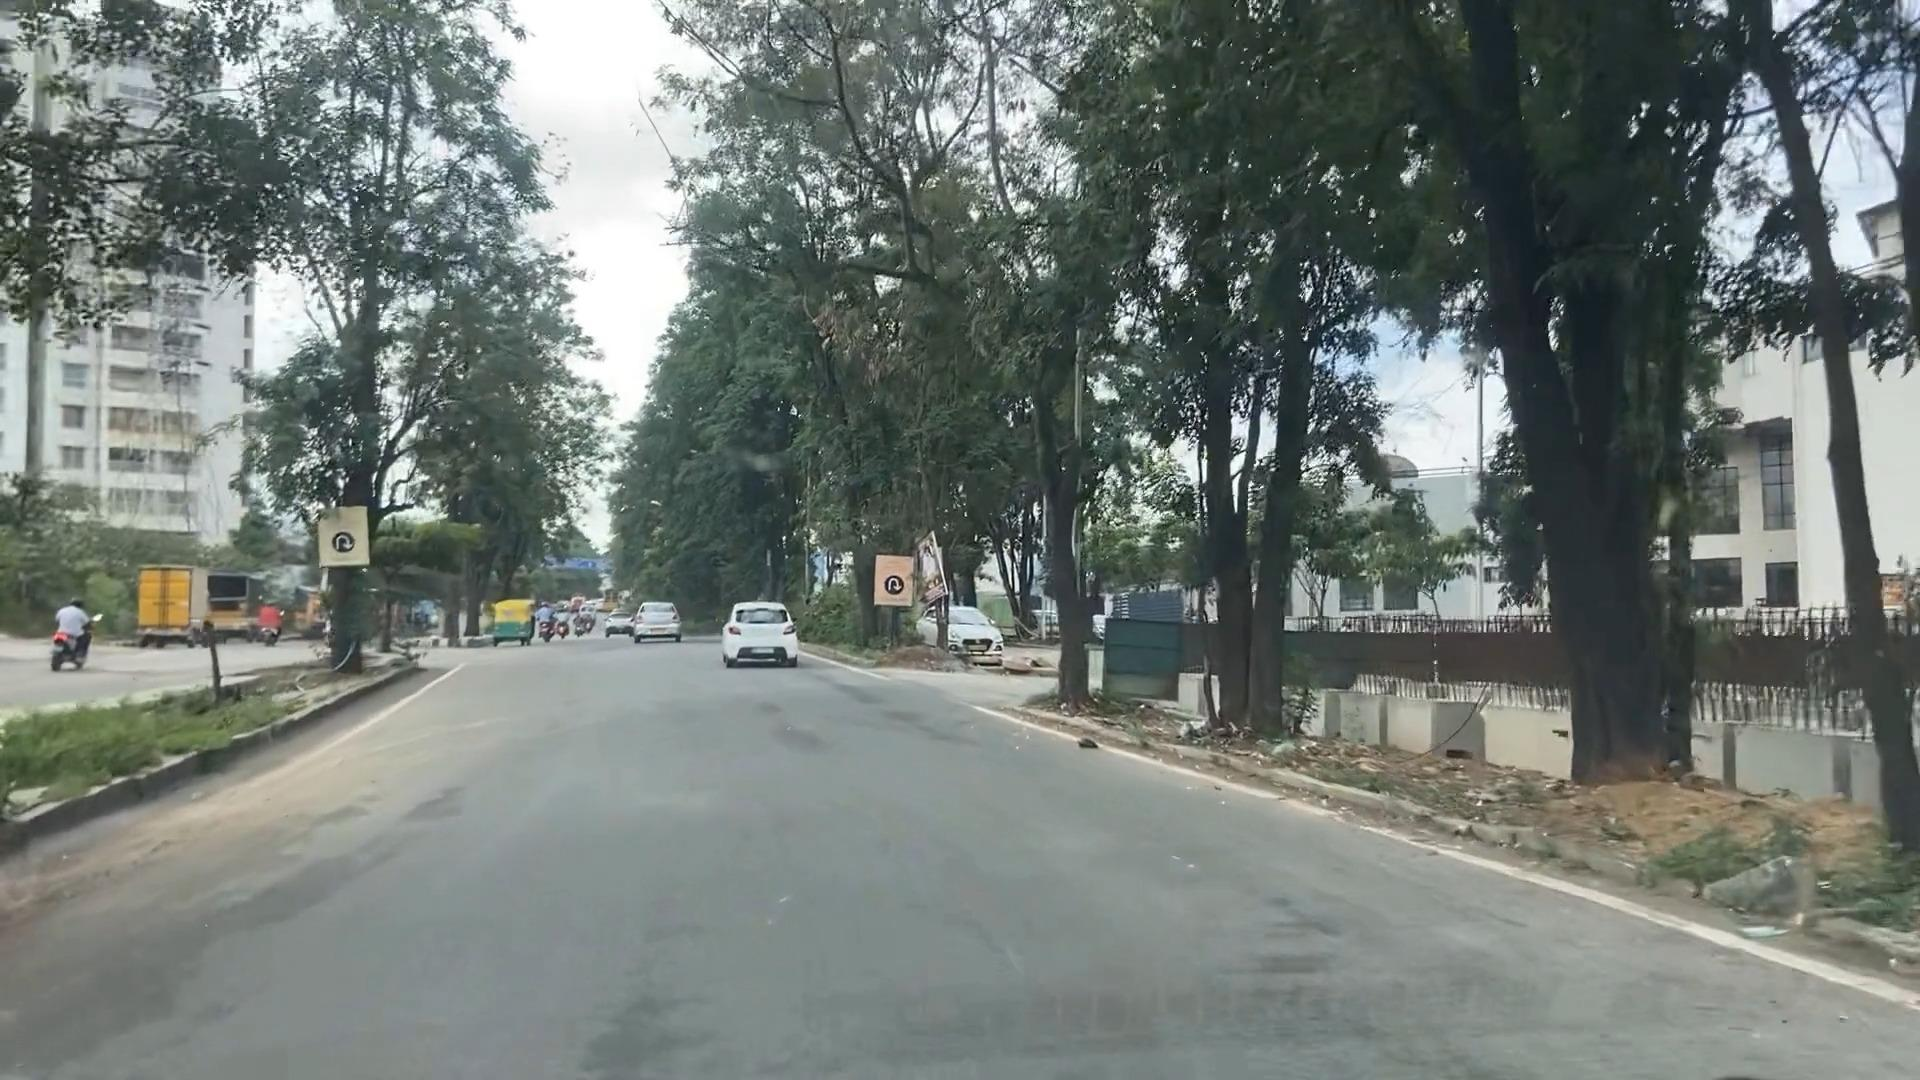LMV: (728, 602, 801, 669), (492, 602, 534, 642), (640, 600, 677, 642)
RoadDamages: (1276, 1018, 1458, 1075), (818, 674, 972, 737), (598, 982, 683, 1080), (1244, 884, 1327, 980), (376, 802, 461, 856), (272, 794, 356, 846), (756, 704, 809, 747)
